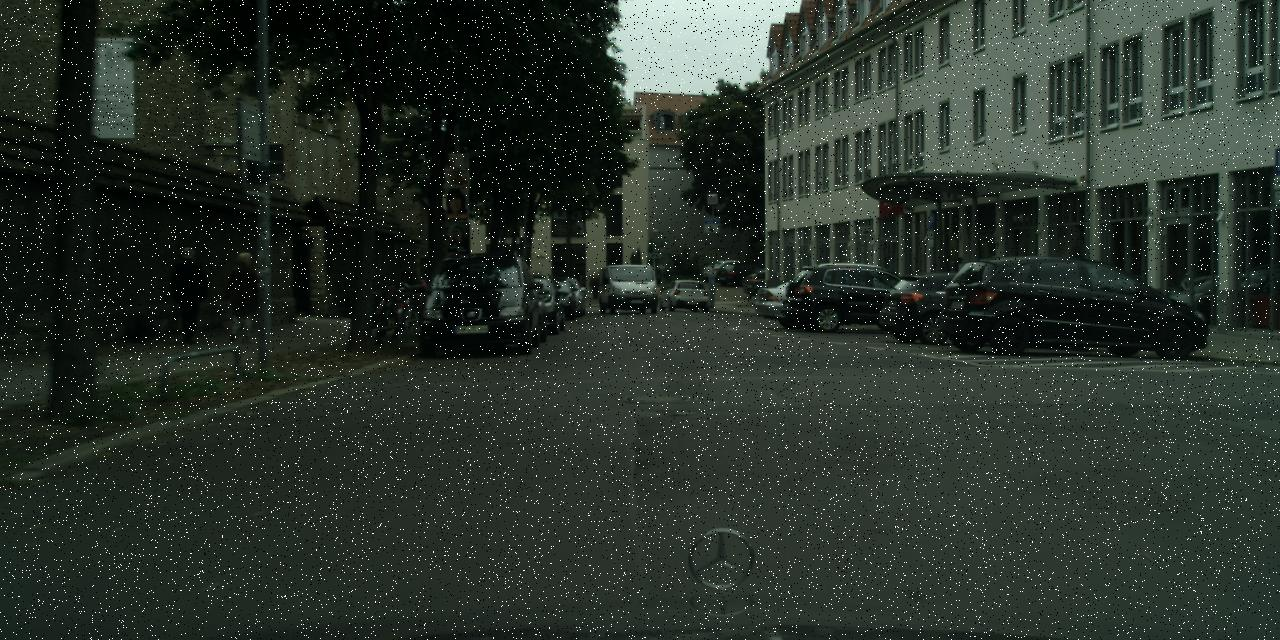ped: (168, 246, 208, 343), (223, 251, 261, 343)
